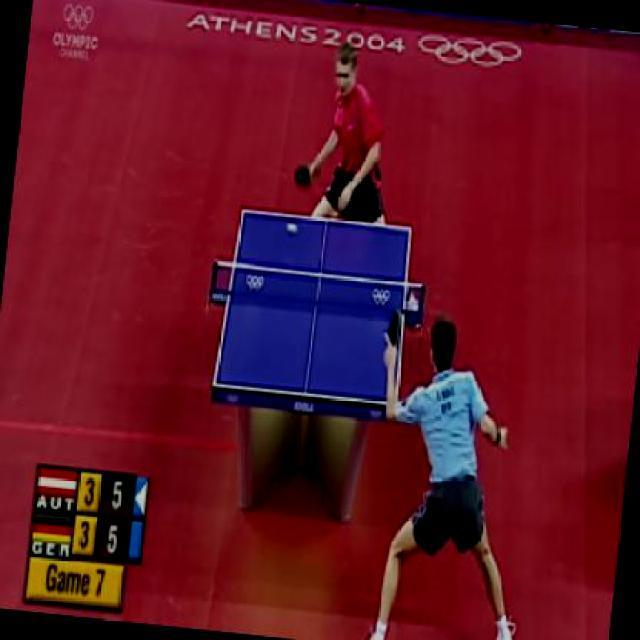non-fight: (351, 314, 551, 638), (290, 38, 402, 224)
